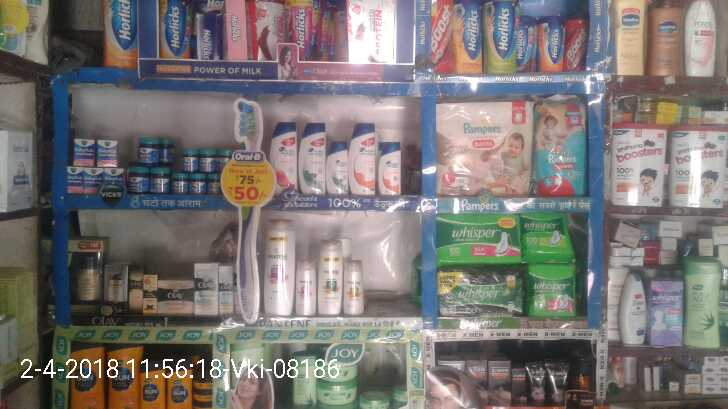vicks: (67, 135, 234, 195)
